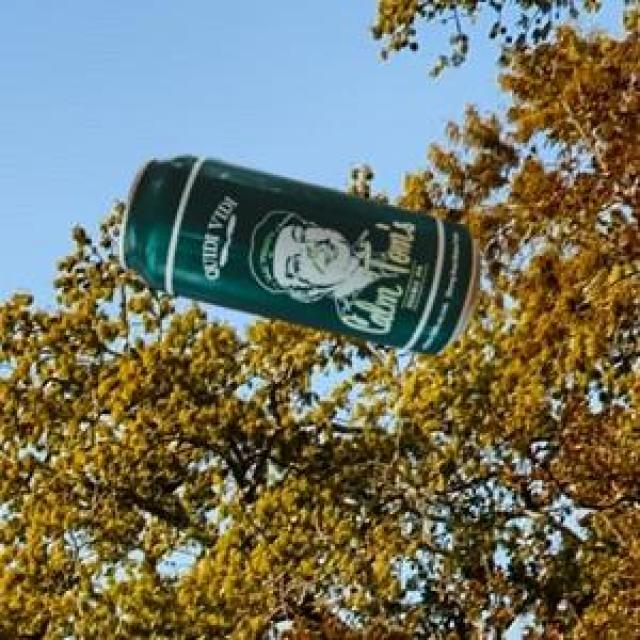logam: (116, 150, 477, 351)
